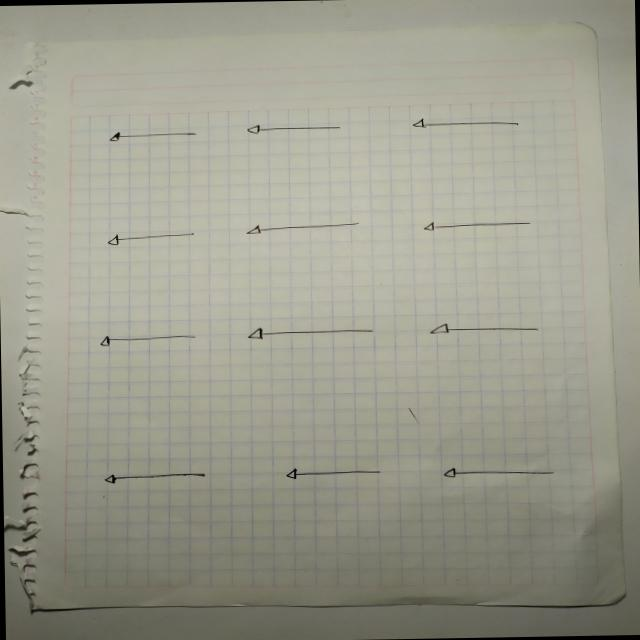arrow_line_left: (402, 211, 558, 240), (426, 457, 568, 488), (234, 320, 387, 345), (269, 461, 393, 490), (418, 316, 545, 342), (92, 465, 224, 490), (399, 114, 530, 138), (235, 218, 372, 240), (90, 328, 206, 352), (237, 119, 354, 142), (102, 125, 208, 146), (100, 228, 206, 249)
